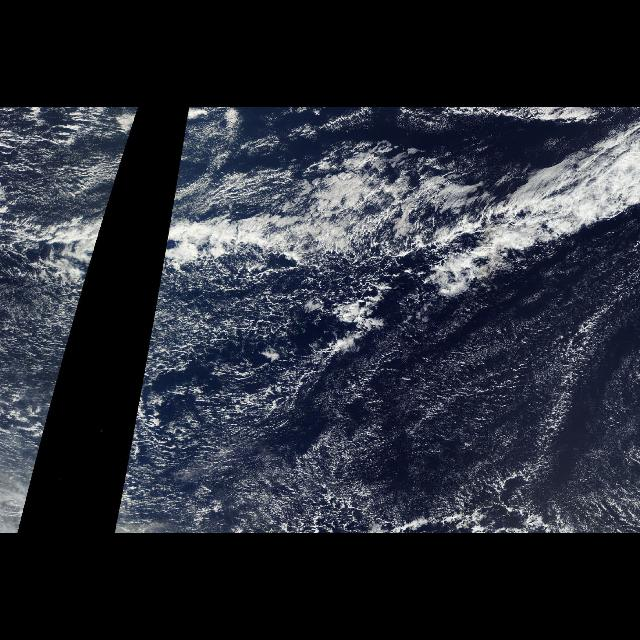Fish: (156, 148, 612, 324)
Gravel: (134, 304, 328, 502), (394, 322, 550, 500)
Sugar: (331, 298, 634, 502), (7, 126, 121, 220)
